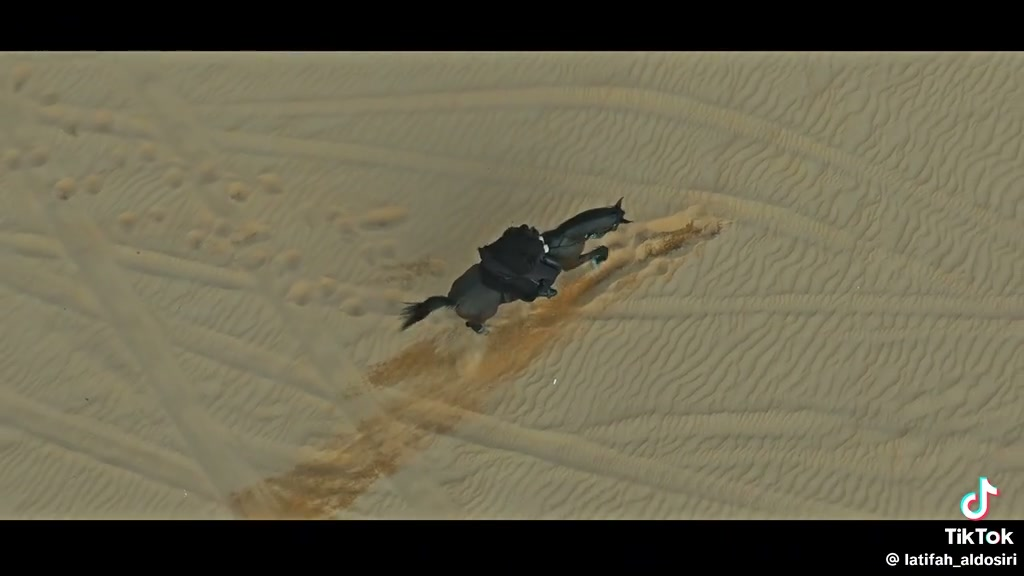animal: (525, 198, 631, 285), (401, 263, 521, 333), (542, 198, 631, 270)
human: (478, 224, 556, 301)
vehicle_track: (19, 256, 855, 524), (77, 77, 1018, 247), (132, 78, 466, 520), (207, 127, 996, 303), (14, 133, 278, 521), (3, 426, 356, 533), (22, 225, 335, 317), (644, 292, 1013, 322)
